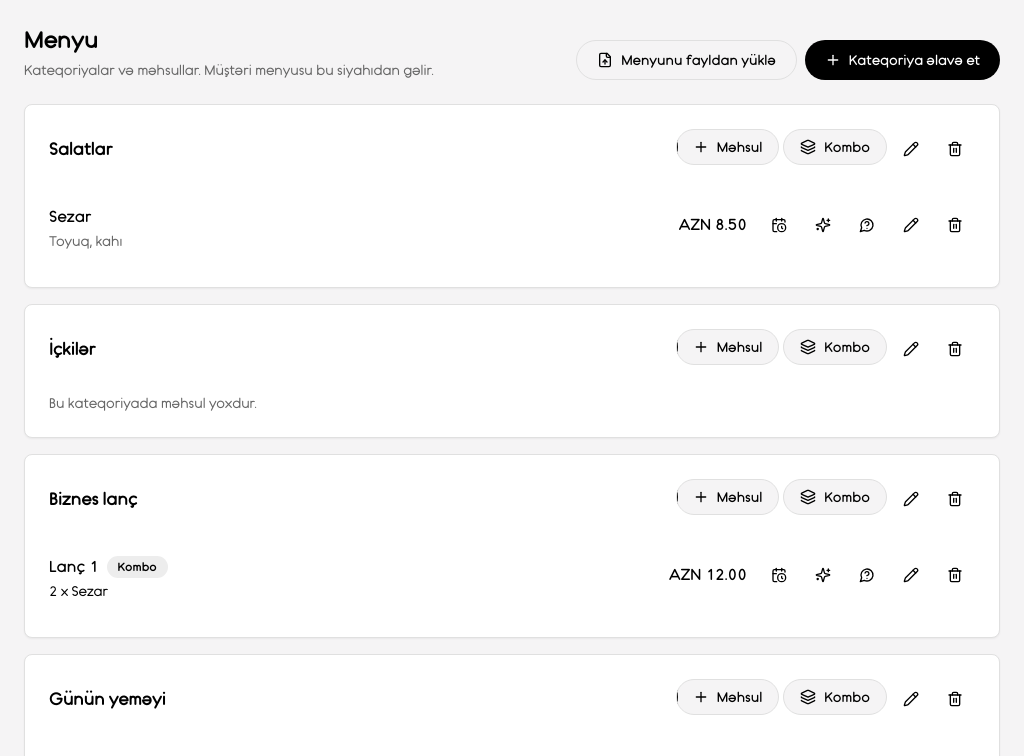
Test: MenuPage (#137) › explains why a dish inside a combo cannot be deleted (#138)
What coordinates should you click on to do the following:
click the button named "Sezar sil"
I would click on:
 (955, 225)
Its box is x1=935 y1=205 x2=975 y2=245.
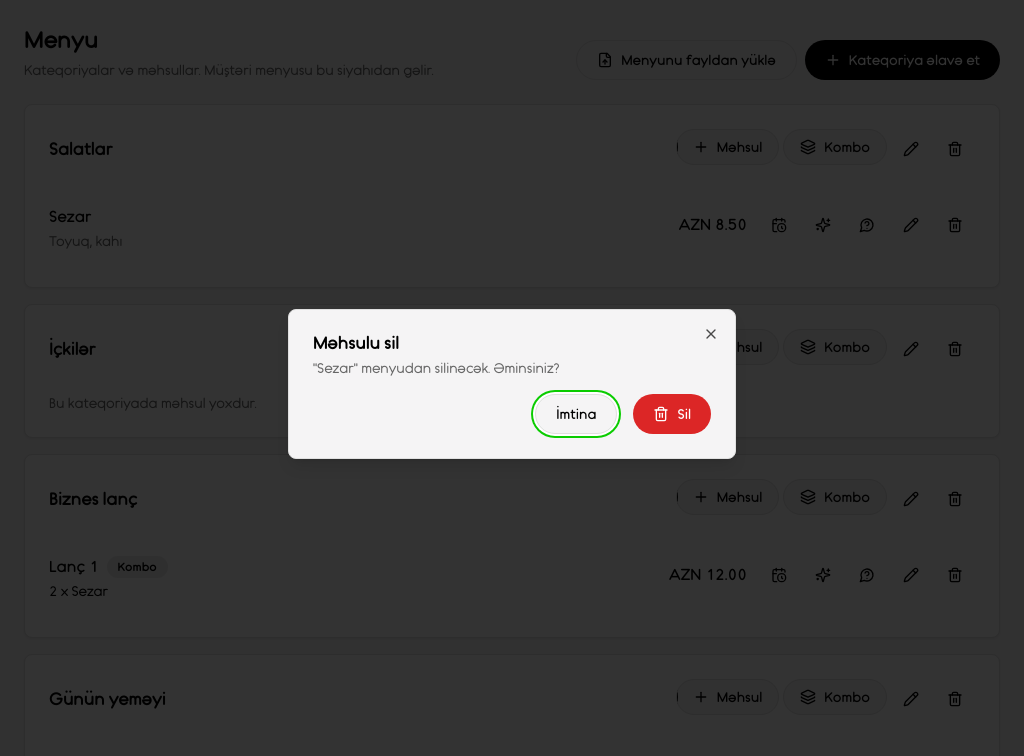
What coordinates should you click on to do the following:
click the button "Sil"
I would click on:
 (672, 414)
Its box is x1=633 y1=394 x2=711 y2=434.
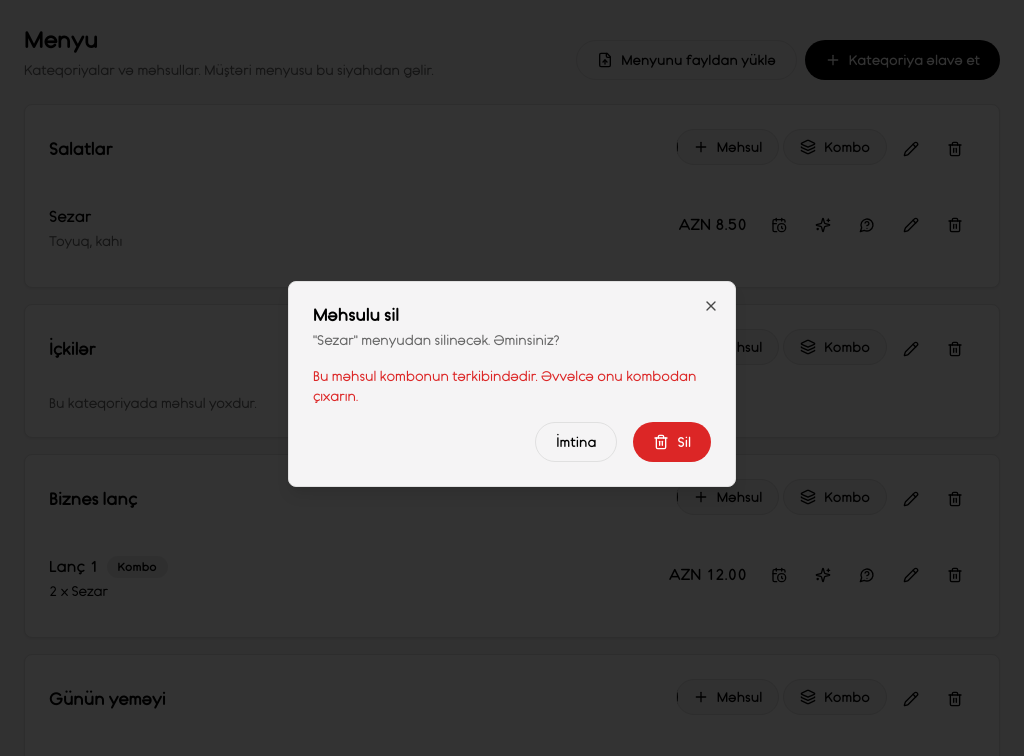
Expected: the text "kombonun tərkibindədir" is shown, x1=313 y1=368 x2=696 y2=404
